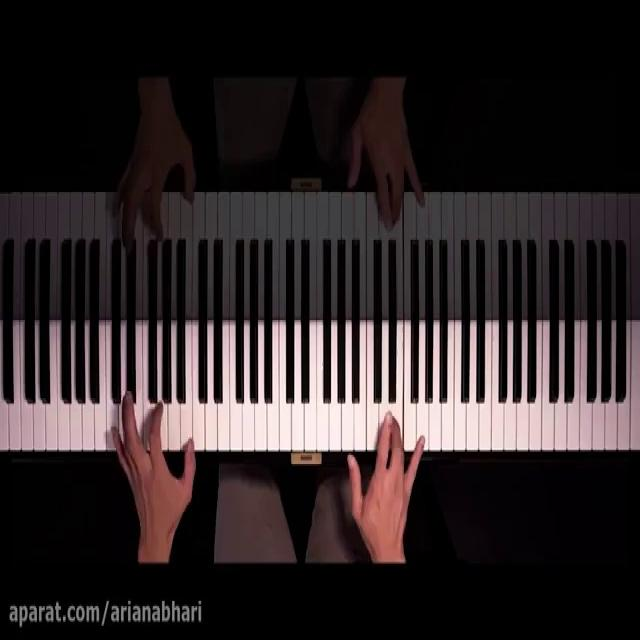Piano: (0, 324, 640, 458)
